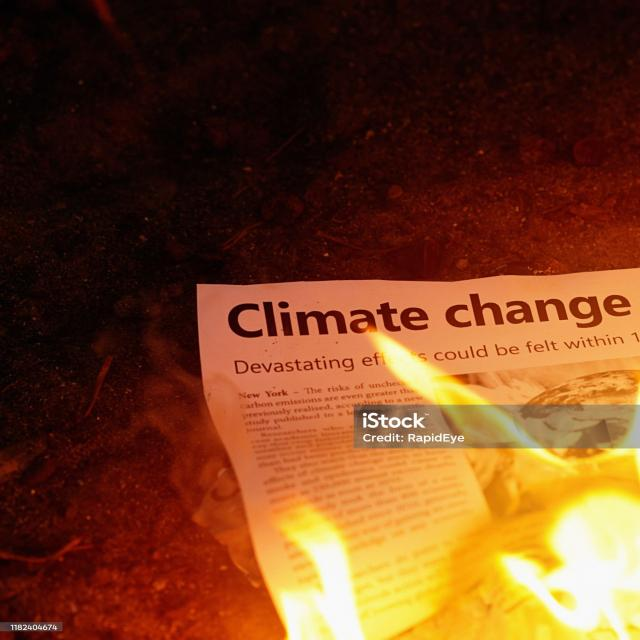fire: (369, 331, 640, 640), (270, 503, 362, 640)
